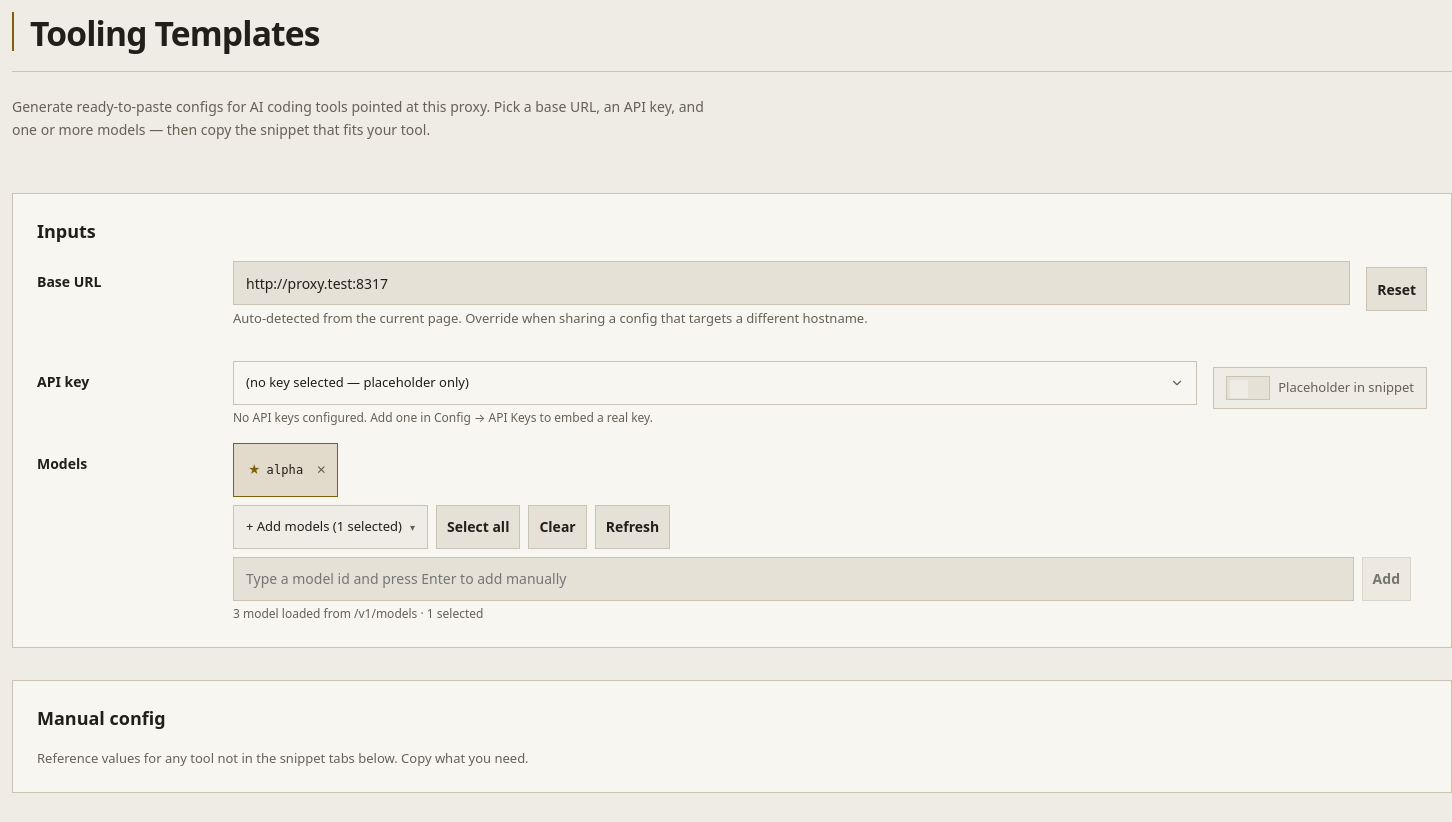
Test: ToolingTemplatesPage model chip actions › adds every discovered model when Select all is clicked
Expected: the text "alpha" is shown, x1=266 y1=460 x2=303 y2=478
Click the button "Select all".
click(478, 526)  # box x1=436 y1=504 x2=520 y2=548
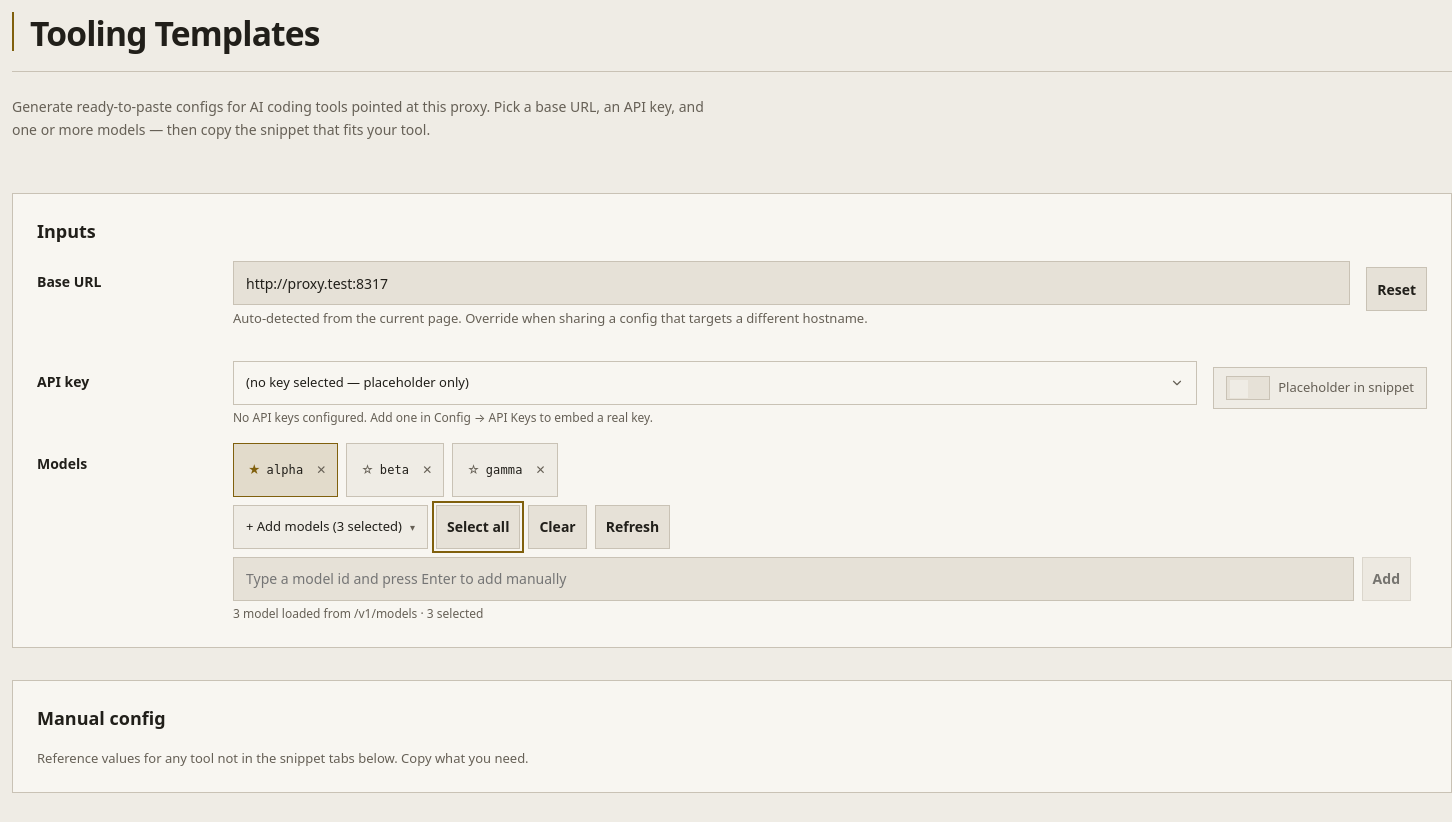
Expected: the number of list items is 3, x1=233 y1=442 x2=338 y2=496; x1=346 y1=442 x2=444 y2=496; x1=452 y1=442 x2=558 y2=496
